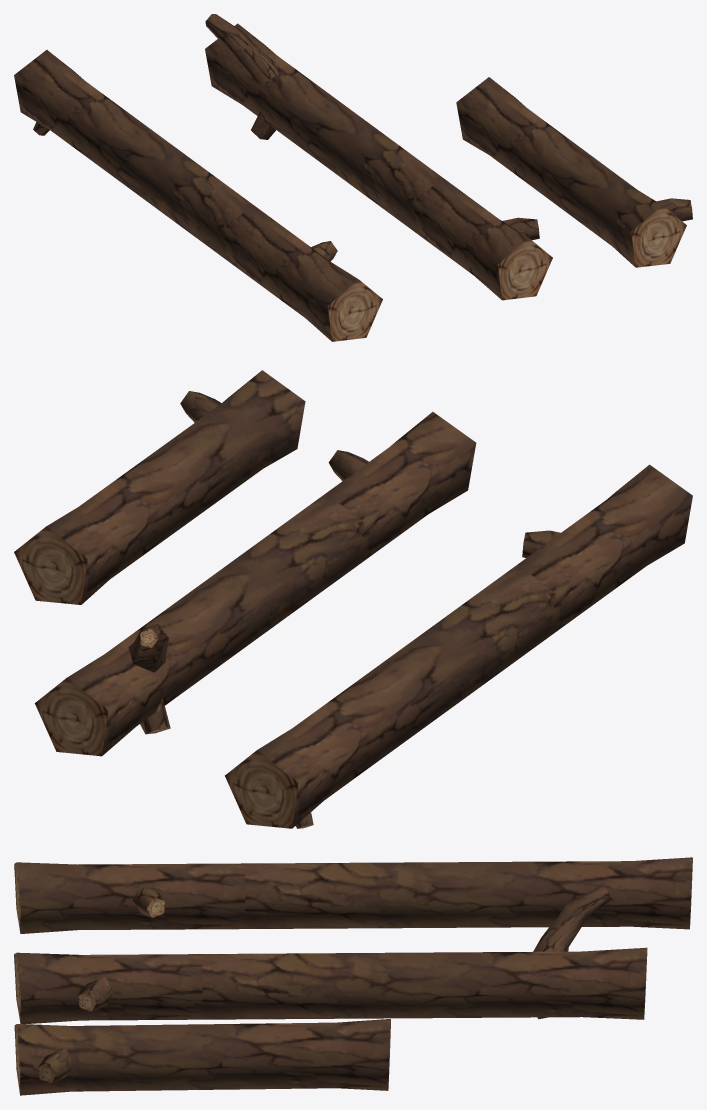
Rendered from 2_GBL_MuTou_01.FBX.
The picture shows the model from 3 angles, top to bottom: view 1: azimuth 30°, elevation 25°; view 2: azimuth 150°, elevation 25°; view 3: azimuth 270°, elevation 25°; orthographic projection. The views are drawn at different scales.
Visible parts, largest first — view 1: 2_GBL_MuTou_01, 2_GBL_MuTou_02, 2_GBL_MuTou_03; view 2: 2_GBL_MuTou_01, 2_GBL_MuTou_02, 2_GBL_MuTou_03; view 3: 2_GBL_MuTou_02, 2_GBL_MuTou_01, 2_GBL_MuTou_03.
Part boxes in pixels (bbox=[...]): 2_GBL_MuTou_01: bbox=[14, 50, 382, 341]; 2_GBL_MuTou_02: bbox=[205, 14, 552, 300]; 2_GBL_MuTou_03: bbox=[456, 77, 692, 267]; 2_GBL_MuTou_01: bbox=[225, 464, 692, 828]; 2_GBL_MuTou_02: bbox=[35, 412, 476, 756]; 2_GBL_MuTou_03: bbox=[14, 370, 305, 604]; 2_GBL_MuTou_02: bbox=[14, 885, 647, 1024]; 2_GBL_MuTou_01: bbox=[14, 857, 692, 933]; 2_GBL_MuTou_03: bbox=[14, 1019, 390, 1095].
Bounding box in the file's own units: 282 × 77.58 × 396.
1 material, 1 textured.
